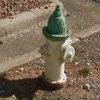Hydrant: (36, 2, 78, 87)
